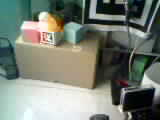duck: (30, 5, 59, 29)
